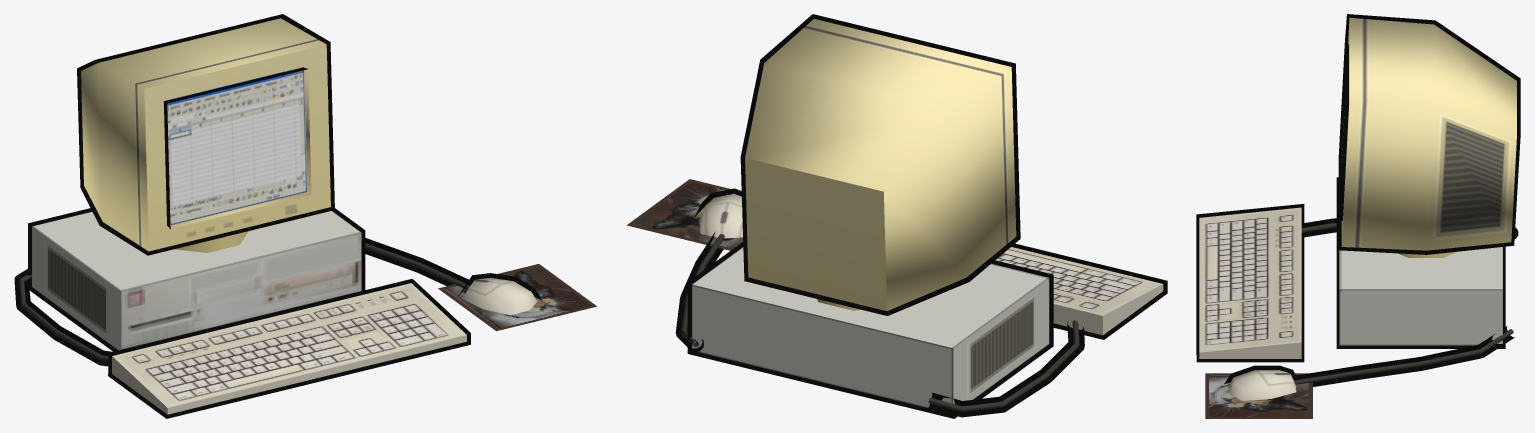
The model's file is Pc  Excel.glb.
The picture shows the model from 3 angles, left to right: view 1: azimuth 30°, elevation 25°; view 2: azimuth 150°, elevation 25°; view 3: azimuth 270°, elevation 25°; orthographic projection. The views are drawn at different scales.
Visible parts, largest first — view 1: Pc Excel; view 2: Pc Excel; view 3: Pc Excel.
Boxes of the visible parts, x1,y1,x2,y2 form: Pc Excel: (14,14,596,418); Pc Excel: (626,14,1167,418); Pc Excel: (1196,14,1520,418).
Bounding box in the file's own units: 0.7626 × 0.4311 × 0.5263.
Materials: 2 (1 with a texture image).
